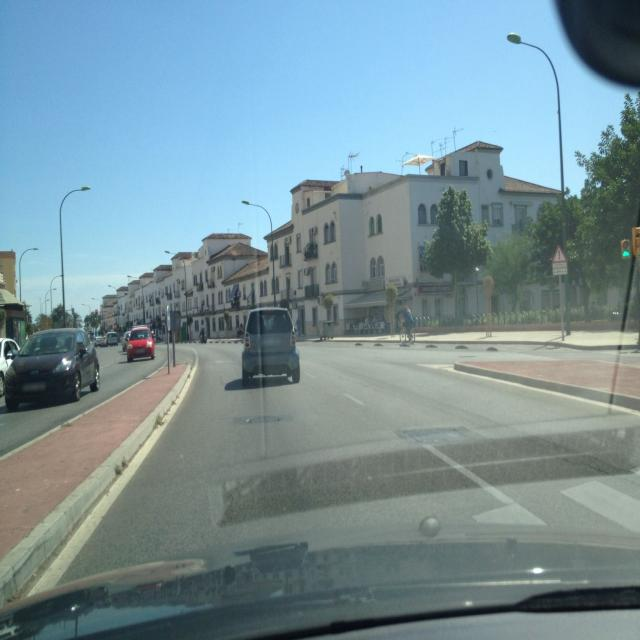bike: (397, 321, 417, 347)
car: (4, 328, 100, 410), (241, 306, 301, 384), (0, 337, 20, 393), (126, 326, 156, 362), (121, 331, 131, 352), (106, 332, 118, 346), (95, 334, 106, 348)
